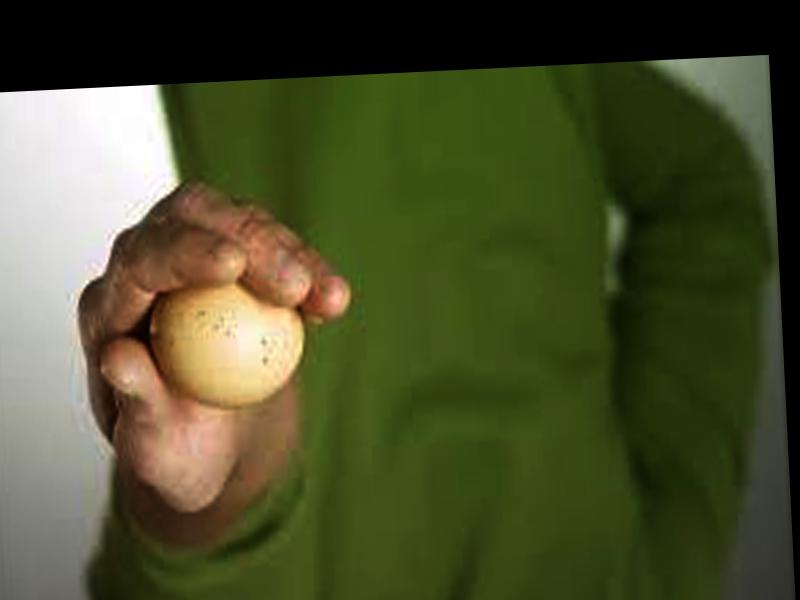Eggs: (147, 277, 308, 409)
